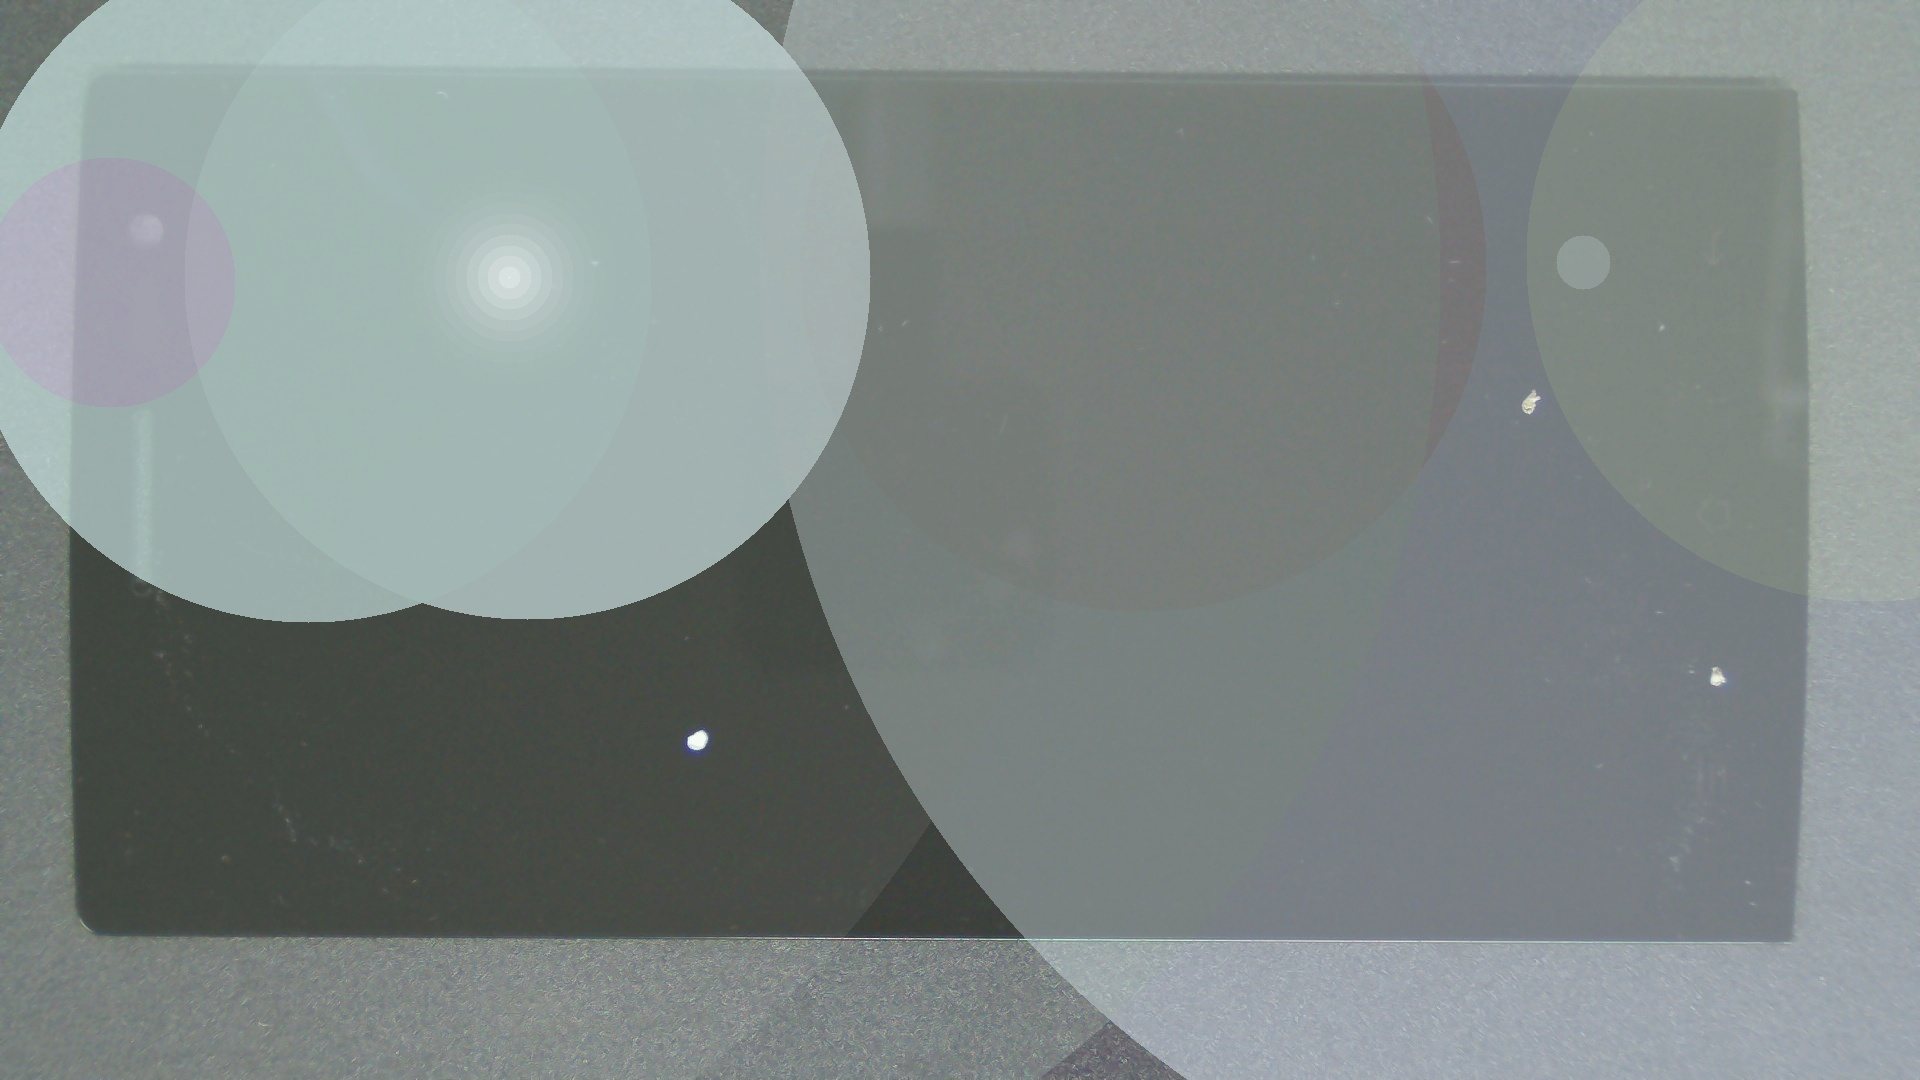oil: (857, 331, 1920, 998), (352, 364, 1052, 1080), (767, 193, 1920, 582)
